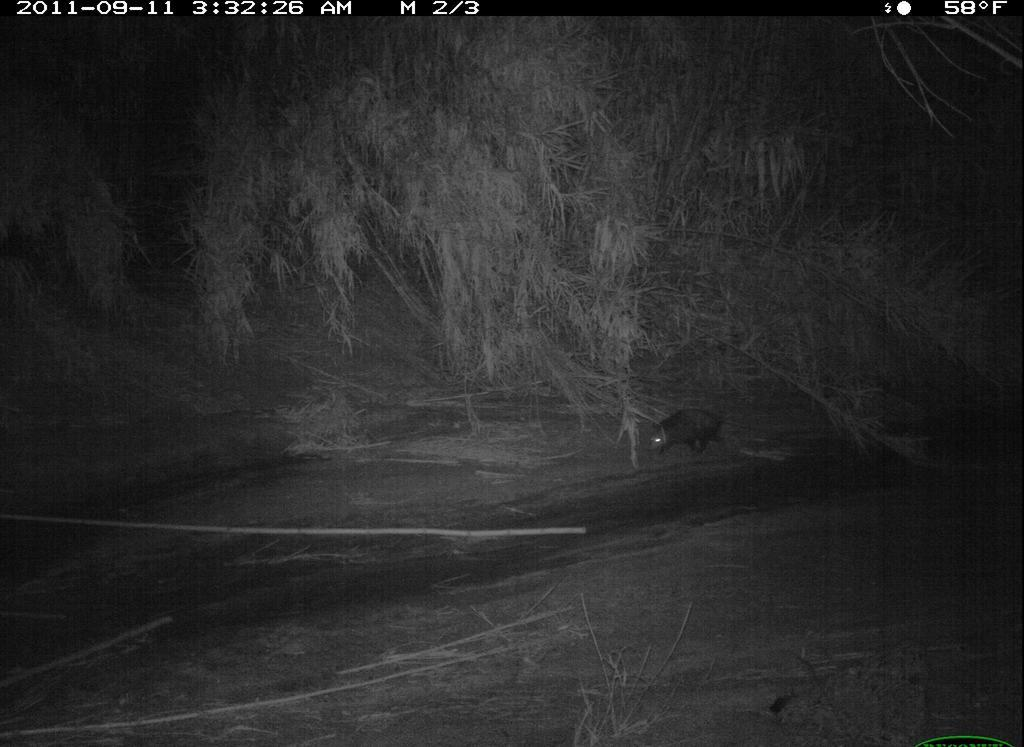opossum: (637, 404, 739, 469)
